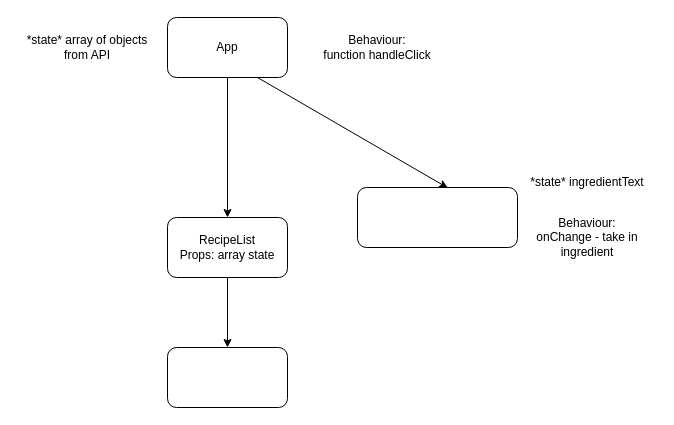
This 674x425 diagram has some shape labels left out. The centre of each missing label's shape, as x and y in pixels:
Input Props: function onSubmit=handleClick: (437,217)
ListItem Props: recipe: (227,377)
